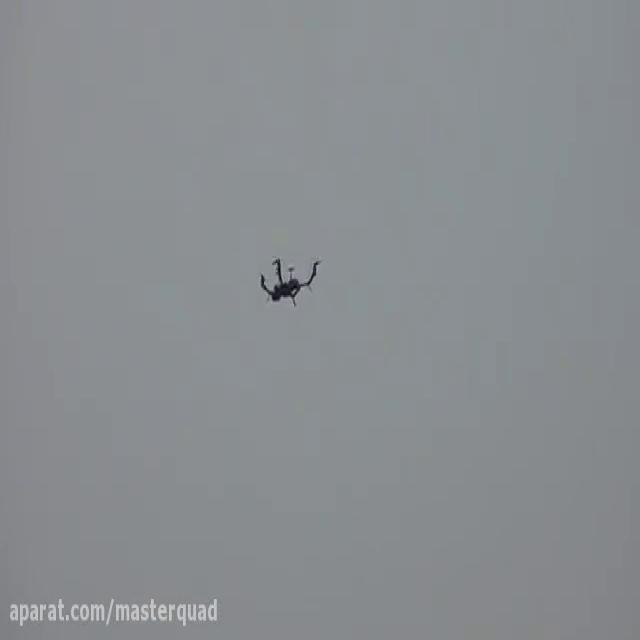drone: (255, 247, 322, 308)
